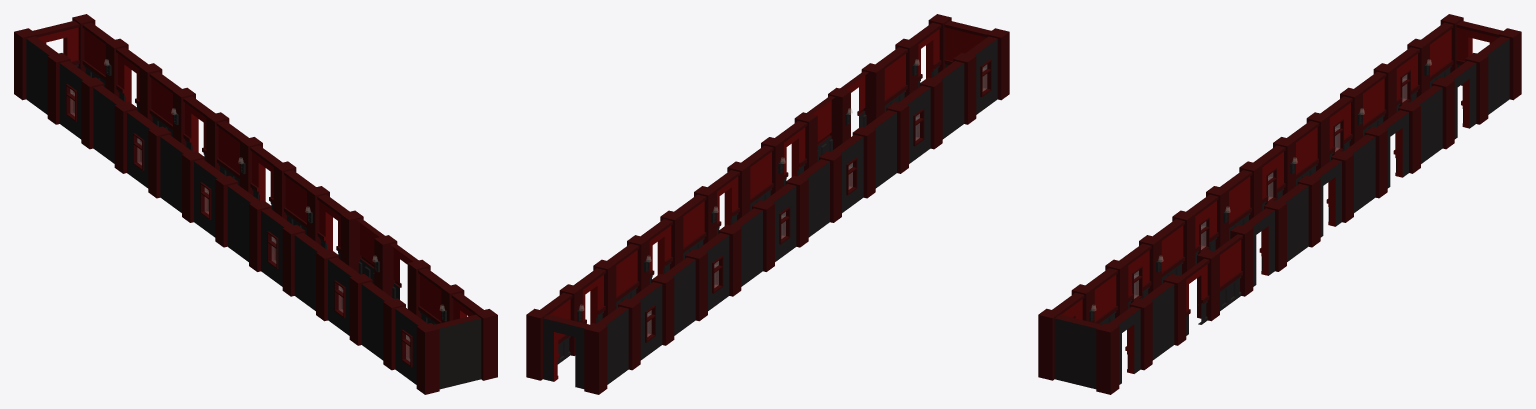
File: corredor.glb
3 renders of one model, left to right at view 1: azimuth 30°, elevation 25°; view 2: azimuth 150°, elevation 25°; view 3: azimuth 330°, elevation 25°, orthographic.
Parts seen in each view (by area): view 1: Wall.037, Wall.060, Wall.041, Wall.045, Wall.049, Wall.071, Wall.047, Wall.073, Wall.072, Wall.043, Wall.048, Wall.046 (+40 smaller); view 2: Wall.078, Wall.068, Wall.041, Wall.047, Wall.049, Wall.071, Wall.073, Wall.045, Wall.072, Wall.039, Wall.043, Wall.046 (+40 smaller); view 3: Wall.037, Wall.024, Wall.020, Wall.050, Wall.061, Wall.076, Wall.074, Wall.012, Wall.075, Wall.062, Wall.059, Wall.077 (+40 smaller).
Boxes of the visible parts, left/top/right/bottom form: Wall.037: left=434, top=314, right=481, bottom=389; Wall.060: left=416, top=323, right=439, bottom=394; Wall.041: left=361, top=282, right=393, bottom=360; Wall.045: left=294, top=233, right=326, bottom=310; Wall.049: left=160, top=134, right=192, bottom=212; Wall.071: left=93, top=85, right=125, bottom=163; Wall.047: left=227, top=183, right=259, bottom=261; Wall.073: left=26, top=36, right=58, bottom=114; Wall.072: left=59, top=61, right=91, bottom=139; Wall.043: left=328, top=257, right=360, bottom=335; Wall.048: left=194, top=159, right=225, bottom=237; Wall.046: left=261, top=208, right=293, bottom=286; Wall.078: left=543, top=314, right=589, bottom=388; Wall.068: left=584, top=323, right=607, bottom=394; Wall.041: left=932, top=61, right=964, bottom=139; Wall.047: left=797, top=159, right=829, bottom=237; Wall.049: left=730, top=208, right=762, bottom=286; Wall.071: left=663, top=257, right=695, bottom=335; Wall.073: left=596, top=306, right=628, bottom=384; Wall.045: left=865, top=110, right=896, bottom=188; Wall.072: left=630, top=282, right=662, bottom=360; Wall.039: left=965, top=36, right=997, bottom=114; Wall.043: left=898, top=85, right=930, bottom=163; Wall.046: left=831, top=134, right=863, bottom=212; Wall.037: left=1054, top=314, right=1101, bottom=389; Wall.024: left=1096, top=323, right=1119, bottom=394; Wall.020: left=1142, top=282, right=1174, bottom=360; Wall.050: left=1343, top=134, right=1375, bottom=212; Wall.061: left=1276, top=183, right=1308, bottom=261; Wall.076: left=1410, top=85, right=1442, bottom=163; Wall.074: left=1477, top=36, right=1509, bottom=114; Wall.012: left=1214, top=234, right=1242, bottom=310; Wall.075: left=1444, top=61, right=1476, bottom=139; Wall.062: left=1242, top=208, right=1274, bottom=286; Wall.059: left=1310, top=159, right=1341, bottom=237; Wall.077: left=1377, top=110, right=1408, bottom=188.
Bounding box in the file's own units: 5.21 × 4.13 × 49.01.
